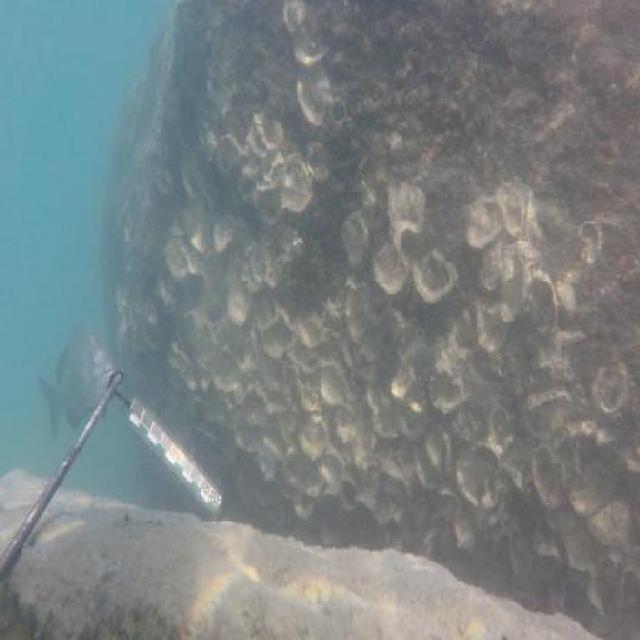acanthopagrus_palmaris: (36, 320, 113, 438)
